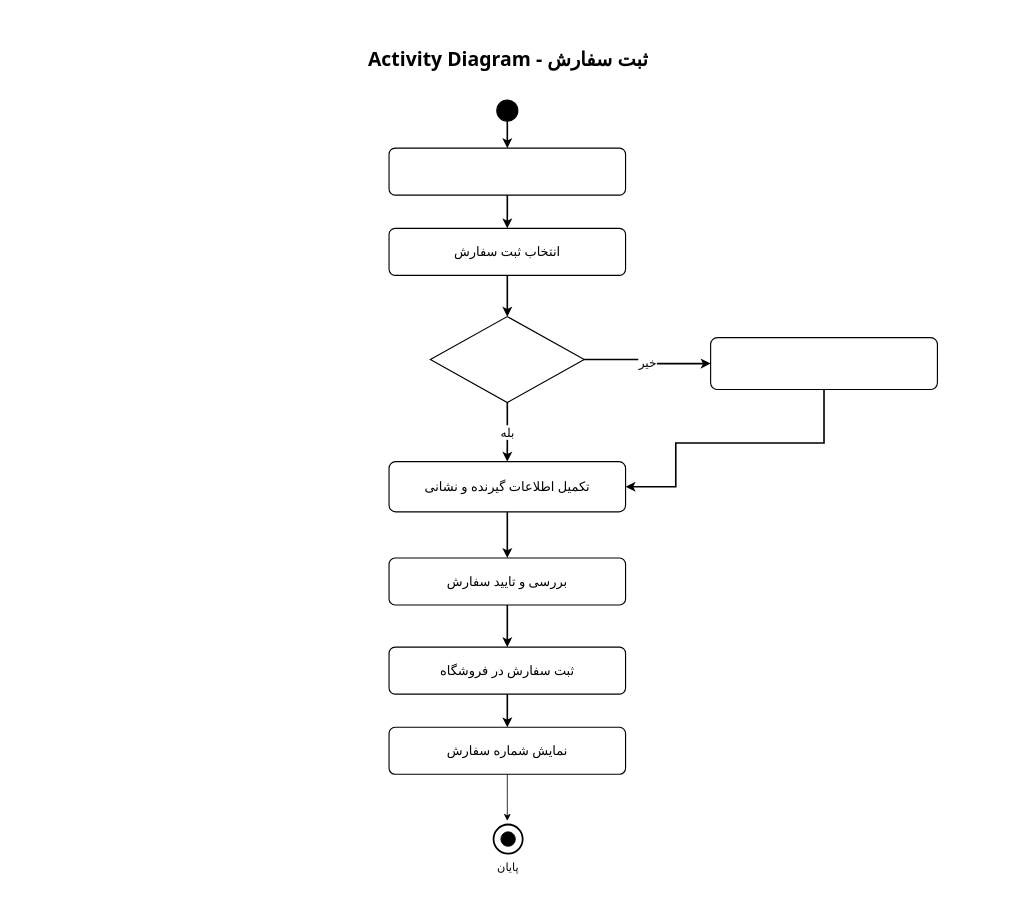
Image size: 1016x919. Some labels were removed from this diagram. The shapes that lost their labels are listed below. From the top down, each one's centre as x and y in pixels, then its label:
At point 507,171: "مشاهده سبد خرید".
At point 506,359: "کاربر وارد حساب شده است؟".
At point 824,363: "ورود یا ثبت نام".
